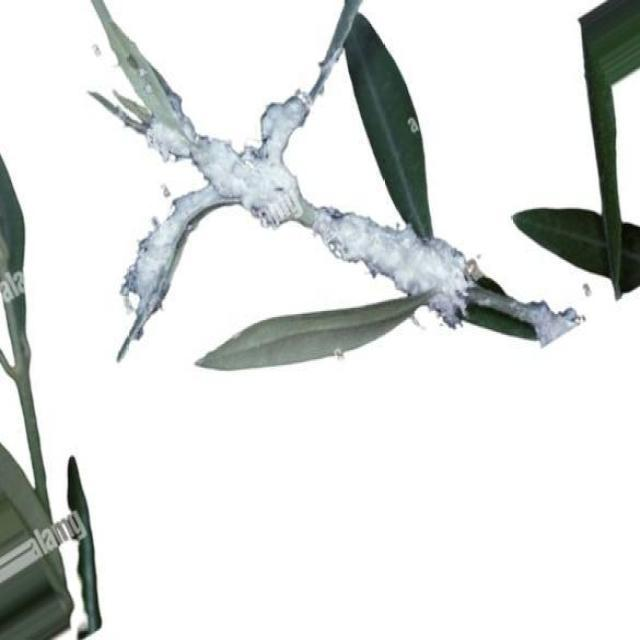Psyllid: (122, 66, 472, 342)
